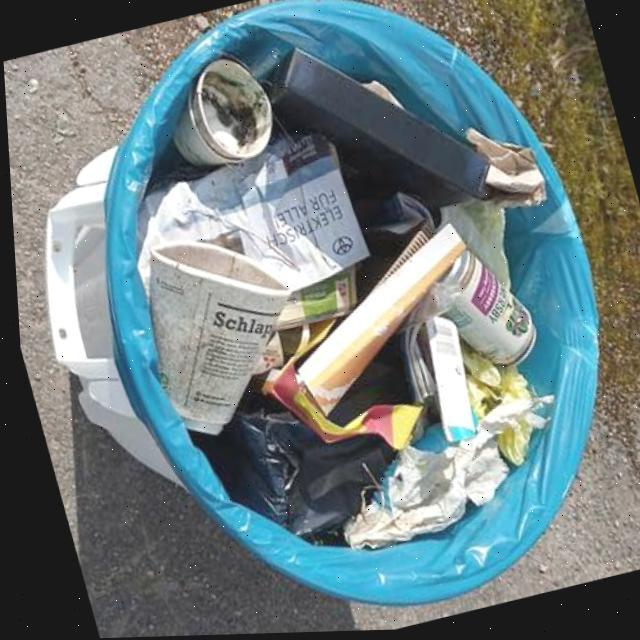Garbage: (3, 0, 640, 639)
Glass_bottle: (443, 253, 528, 367)
Plastic_Bag: (190, 414, 388, 536)
